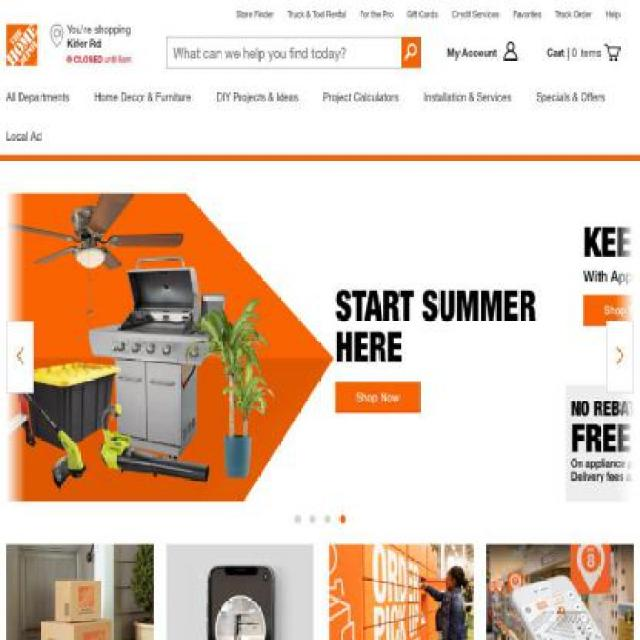button: (25, 49, 238, 88), (25, 88, 238, 127), (25, 203, 238, 242), (25, 318, 238, 357), (25, 127, 238, 165), (25, 165, 238, 203), (25, 242, 238, 280), (25, 280, 238, 318), (95, 76, 192, 116), (424, 76, 511, 116), (50, 22, 132, 64), (216, 76, 298, 116), (323, 76, 399, 116), (537, 76, 605, 116), (6, 76, 69, 116), (6, 320, 34, 394), (606, 320, 634, 394), (446, 41, 520, 64), (547, 41, 621, 64), (6, 116, 42, 156), (400, 37, 420, 68), (462, 61, 495, 76), (250, 61, 282, 76)
field: (167, 37, 388, 68)
